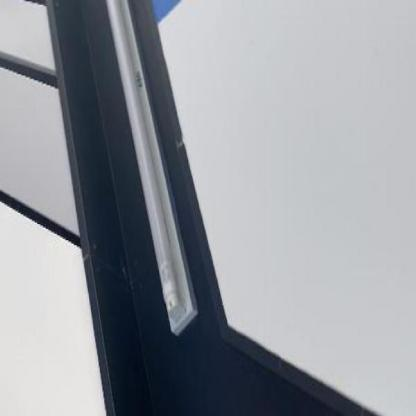light_off: (86, 0, 203, 352)
